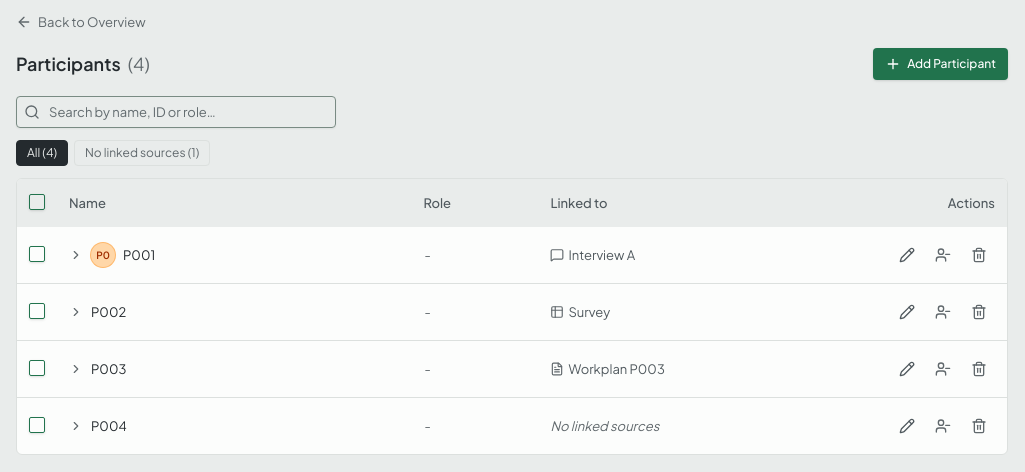
Test case: #1110 — a document can be about a participant › the subject of a document is NOT listed under "No linked sources"
Expected: the text "P001" is shown, [123, 245, 155, 265]
What coordinates should you click on to do the following:
click the button "No linked sources (1)"
I would click on:
 (142, 153)
Its box is [74, 140, 210, 166].
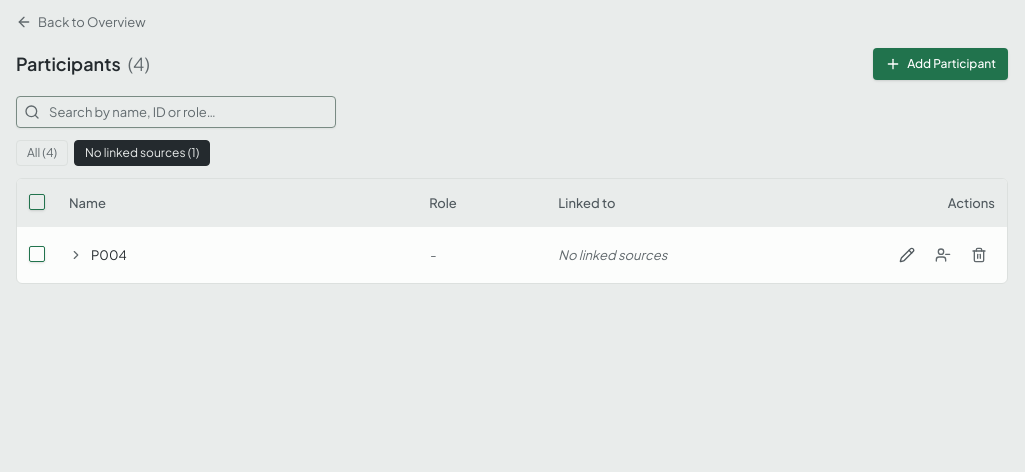
Expected: the text "P004" is shown, [91, 245, 127, 265]
Expected: the text "P003" is gone
